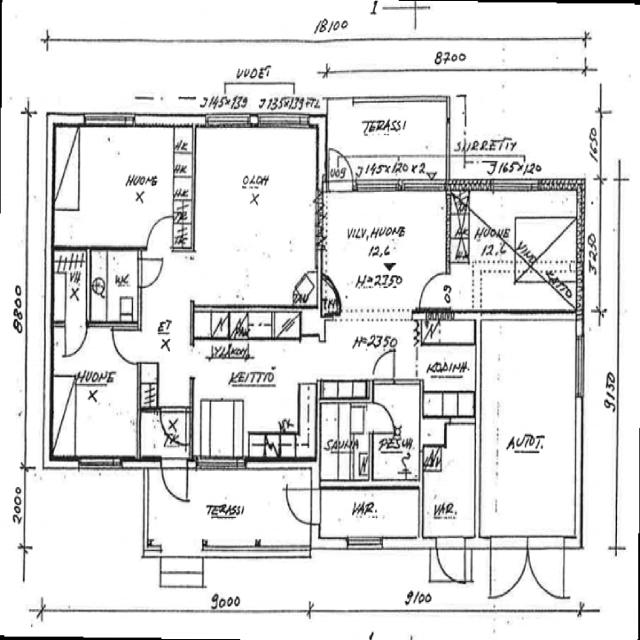door: (50, 326, 138, 458), (369, 385, 420, 481), (430, 533, 470, 589), (280, 482, 320, 527), (158, 454, 192, 506), (139, 223, 172, 273), (108, 322, 144, 367), (155, 403, 190, 446), (417, 267, 452, 310), (325, 146, 357, 193), (144, 211, 175, 254), (135, 252, 166, 291), (369, 348, 399, 383), (60, 322, 89, 358), (366, 401, 396, 435)
window: (570, 322, 589, 408), (76, 450, 126, 478), (256, 108, 309, 132), (83, 108, 134, 128), (356, 176, 402, 197), (345, 532, 384, 552)
zone: (476, 308, 581, 543), (190, 126, 320, 313), (318, 185, 446, 358), (190, 313, 317, 467), (49, 123, 194, 248), (49, 328, 140, 460), (503, 197, 578, 297), (422, 412, 478, 542), (318, 480, 424, 543), (484, 535, 572, 607), (370, 383, 421, 483), (421, 314, 477, 397), (318, 397, 372, 482), (88, 246, 141, 326), (49, 246, 88, 328), (430, 534, 470, 592)
